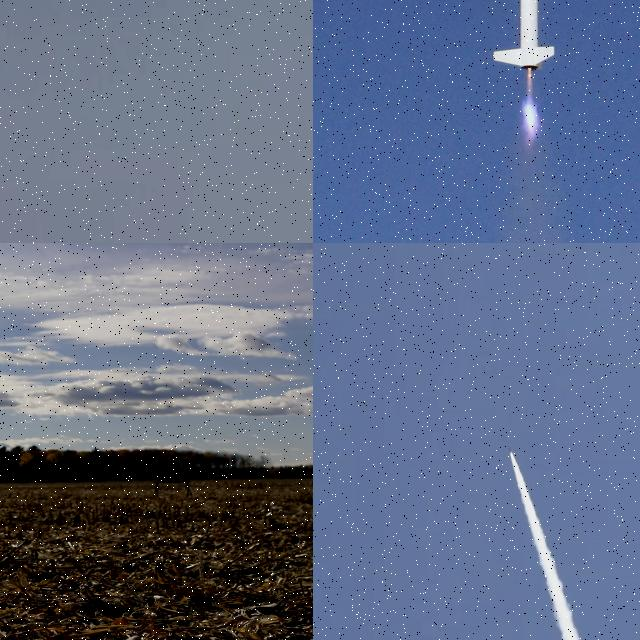Rocket: (492, 0, 557, 72), (508, 446, 512, 454)
